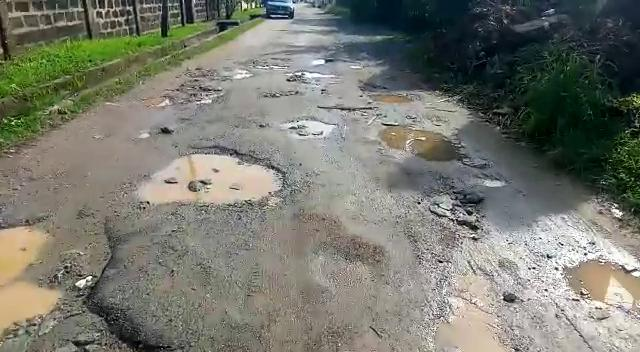pothole: (0, 216, 106, 334), (137, 141, 291, 213), (562, 253, 640, 318), (376, 124, 466, 165), (415, 187, 483, 237), (140, 80, 225, 111), (281, 117, 335, 139), (319, 103, 382, 117), (366, 92, 418, 105), (285, 70, 321, 84), (260, 89, 306, 98)
